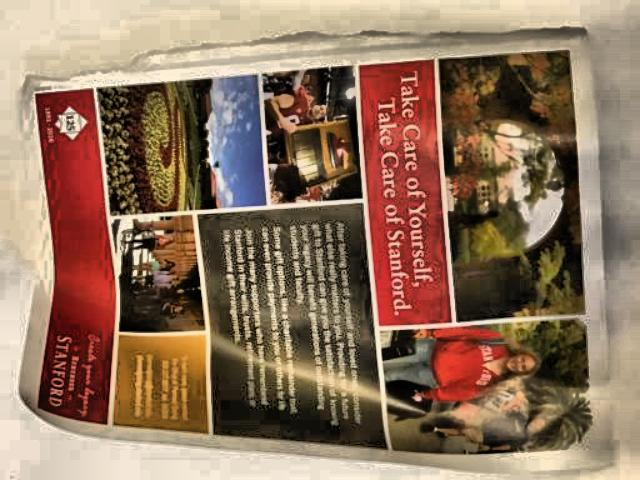Paper: (0, 24, 640, 480)
